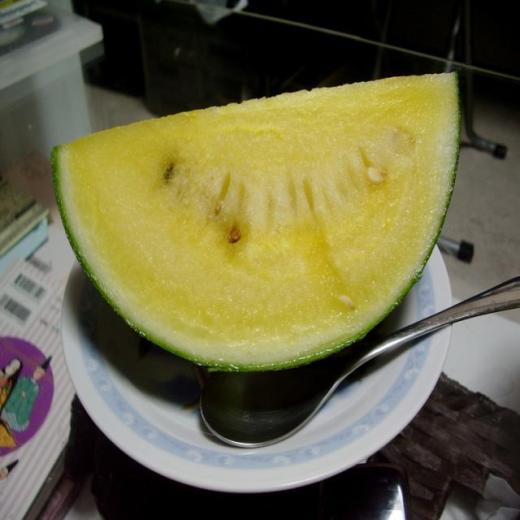Cherry: (50, 70, 461, 372)
